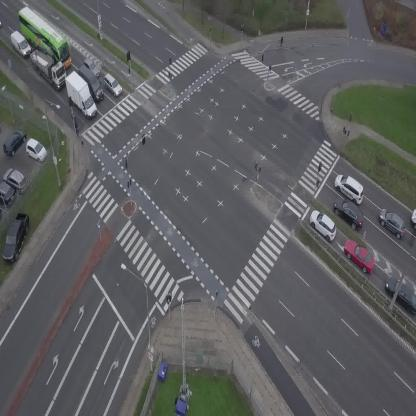bicycle: (73, 119, 81, 136), (277, 31, 286, 45)
bus: (8, 4, 81, 69)
car: (338, 234, 381, 277), (328, 192, 369, 231), (329, 170, 370, 206), (304, 206, 342, 243), (374, 204, 411, 240), (98, 72, 126, 99), (81, 56, 104, 77), (0, 20, 1, 26)
lorry: (18, 38, 75, 92), (60, 67, 99, 122), (75, 61, 106, 104), (6, 29, 35, 59), (411, 209, 416, 223)
